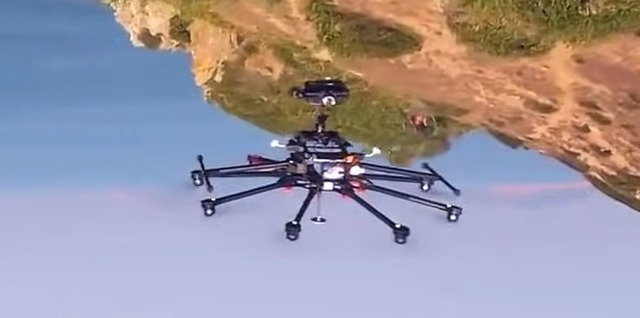drone: (189, 80, 462, 244)
